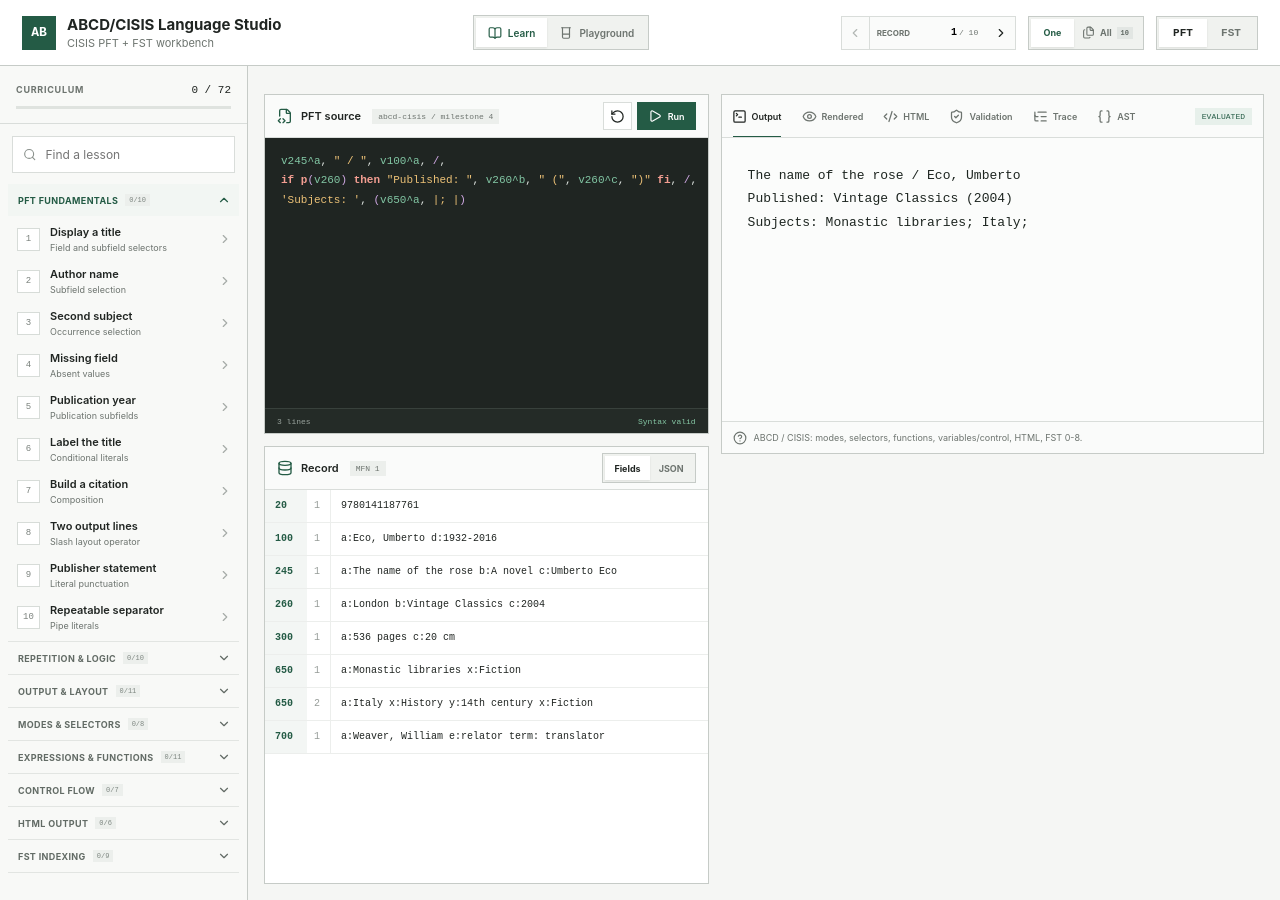
Test case: studio workflow › switches to the FST terms view
The image size is (1280, 900).
Click the button "FST": point(1231, 32) [1207,18,1255,46]
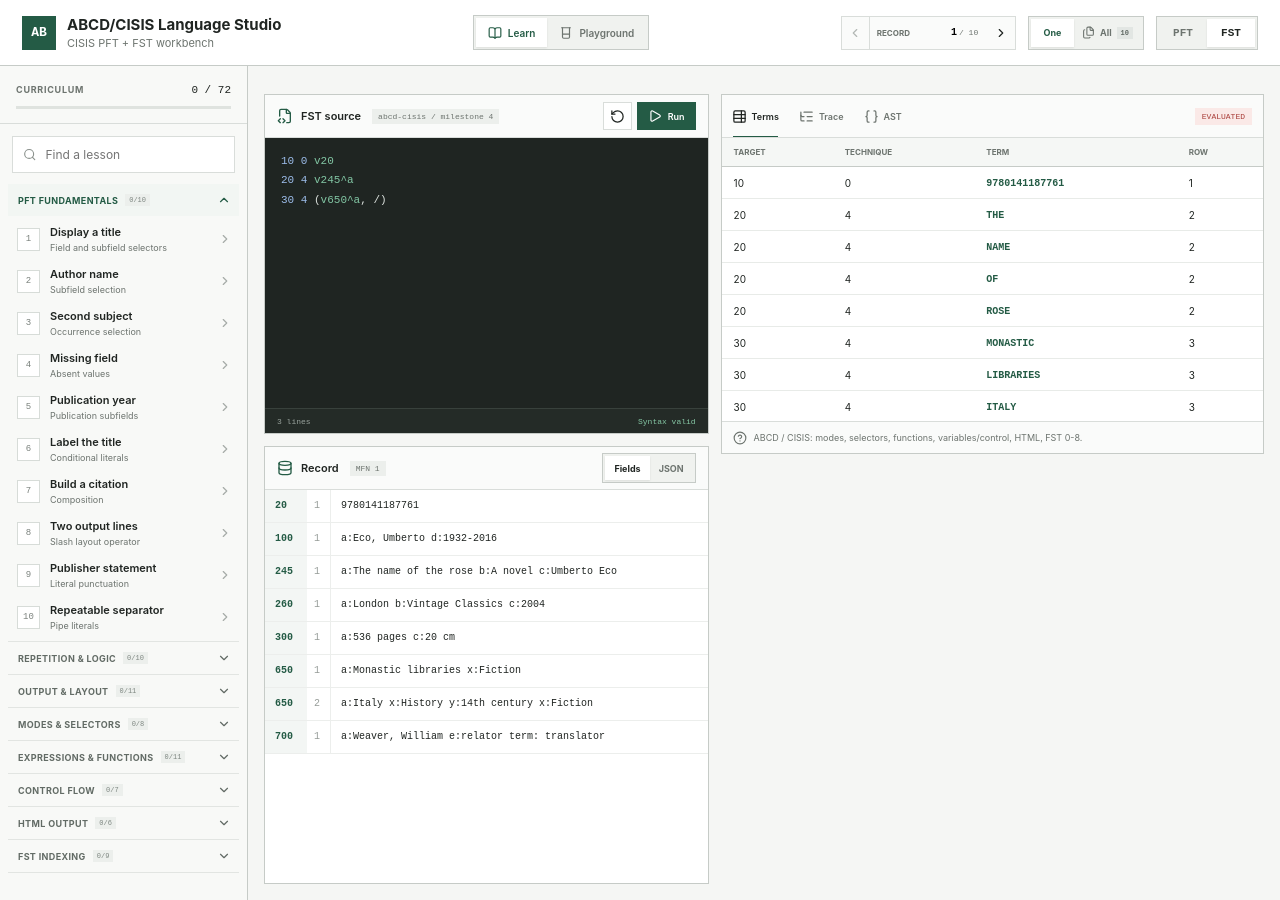
Expected: the text box named "FST source editor" is shown, [265,138,708,408]
